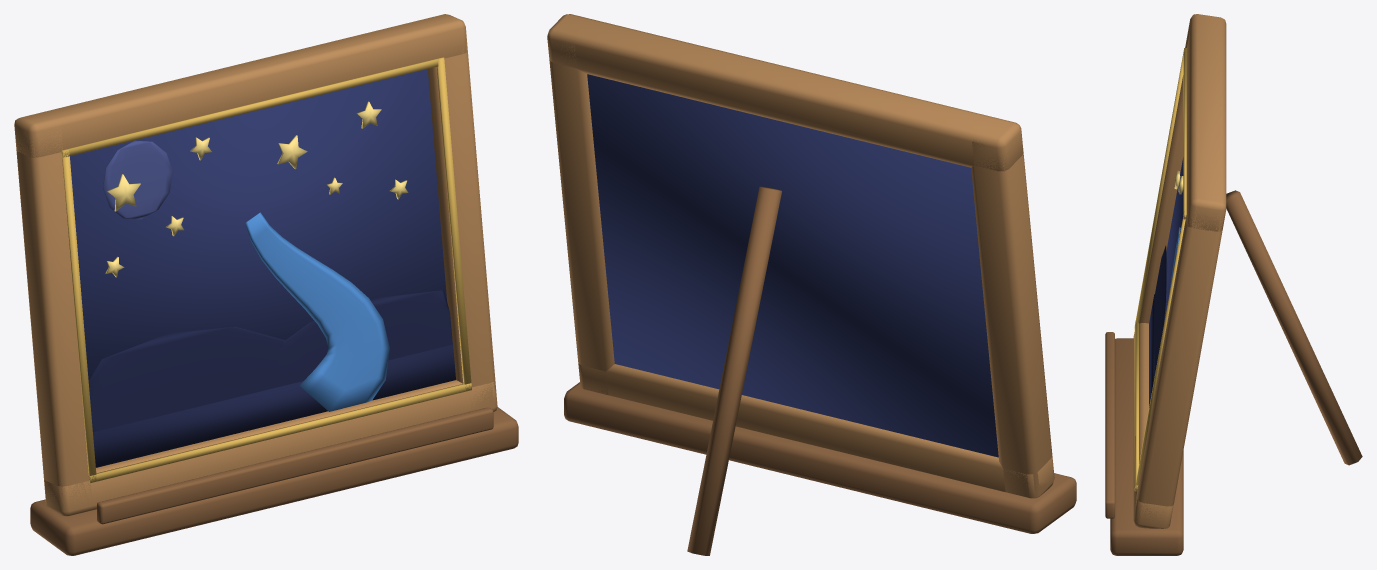
The model's file is art-star-river.glb.
3 renders of one model, left to right at view 1: azimuth 30°, elevation 25°; view 2: azimuth 150°, elevation 25°; view 3: azimuth 270°, elevation 25°, orthographic. The views are drawn at different scales.
Parts seen in each view (by area): view 1: art; view 2: art; view 3: art.
Boxes of the visible parts, box(x1,y1,x2,y2) form: art: box(14, 14, 518, 555); art: box(547, 14, 1076, 555); art: box(1105, 14, 1362, 555).
Size of the model in its own units: 0.57 by 0.4826 by 0.3151.
